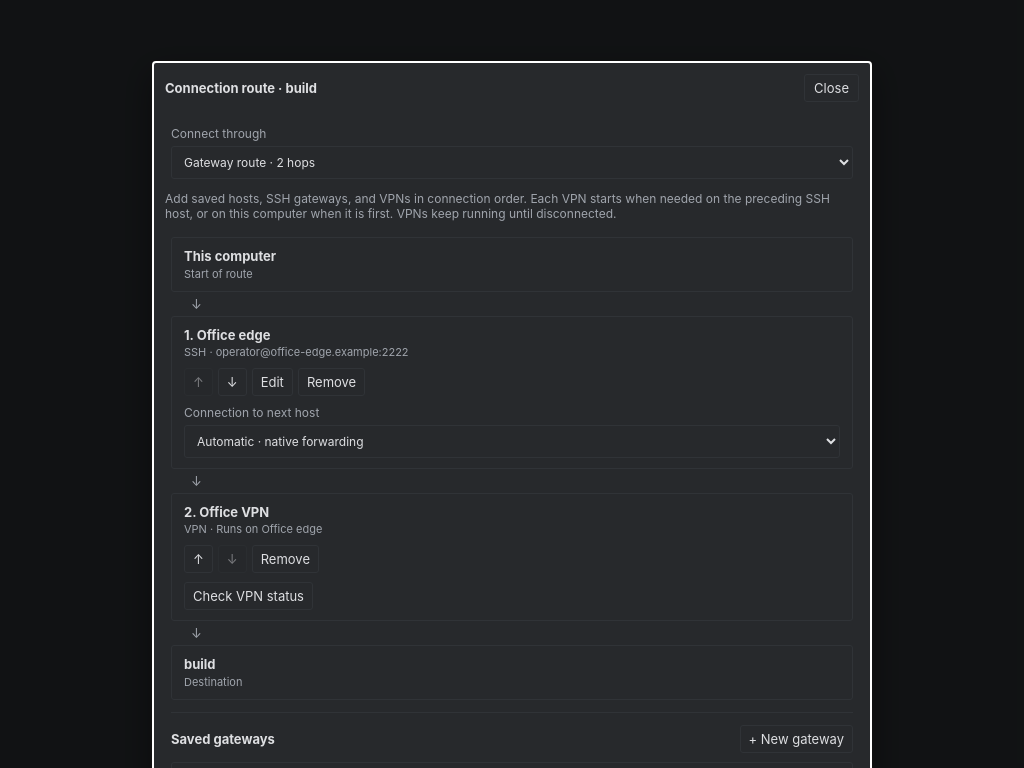
Test: GatewayRouteDialog › shows structured remote VPN update errors in the route editor
This screenshot has width=1024, height=768.
Click the button "Check VPN status": [248, 596] box [184,582,313,610]
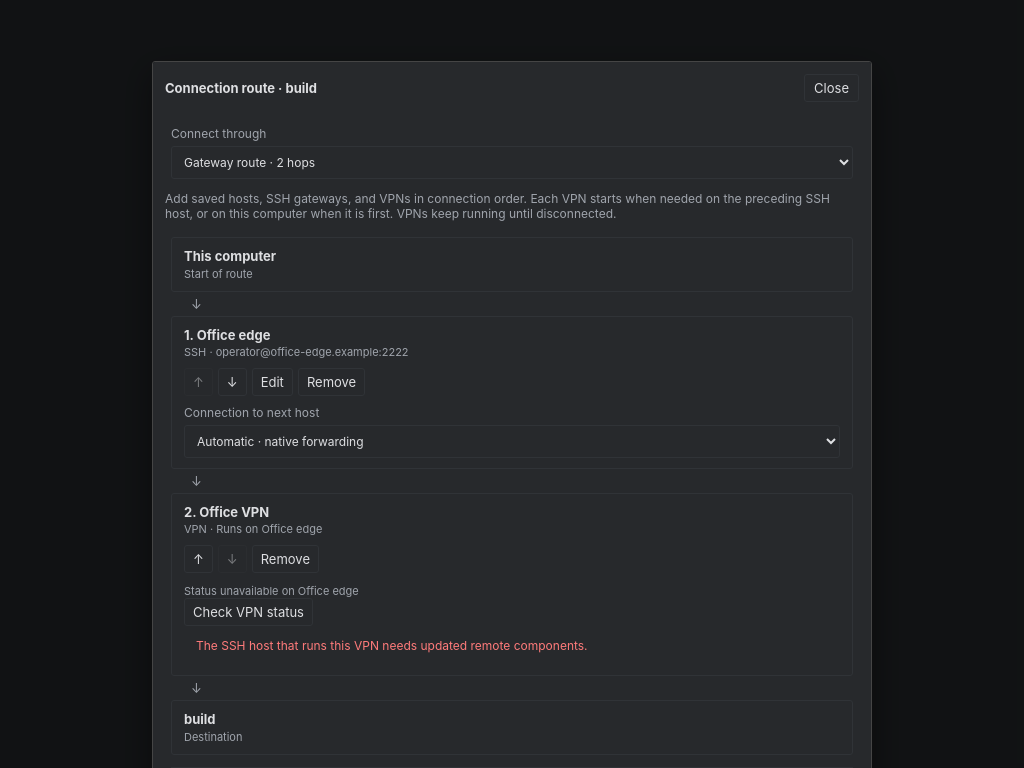
Check: the message reads "The SSH host that runs this VPN needs updated remote components.", box [196,638,588,653]
Check: the text "Status unavailable on Office edge" is shown, box [184,584,359,598]
